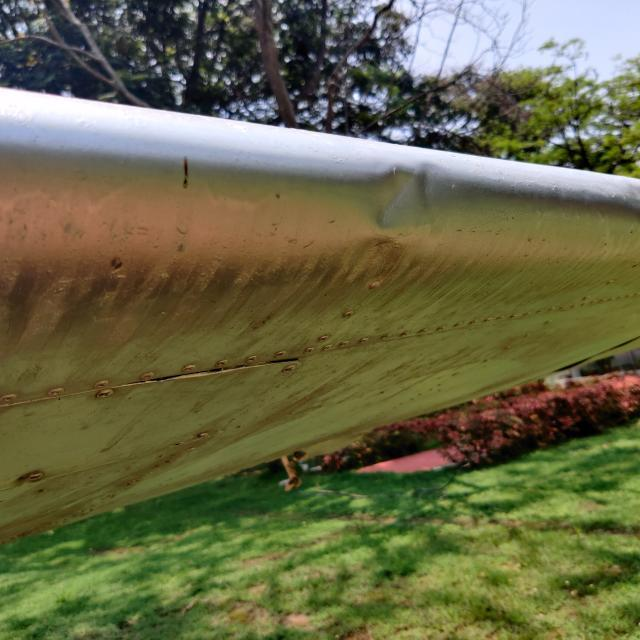Dent: (369, 160, 451, 234)
